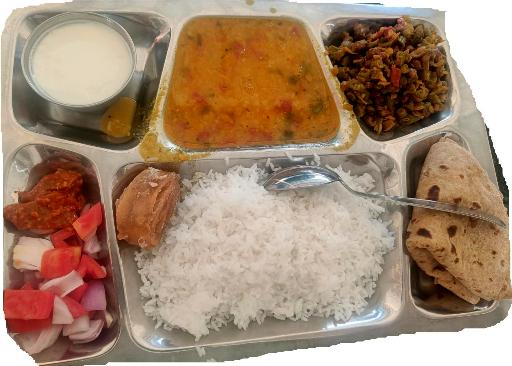Curd: (14, 13, 156, 110)
Dal: (166, 16, 334, 147)
Pickle: (5, 160, 80, 228)
Rice: (115, 156, 405, 341)
Roti: (413, 140, 512, 308)
Salad: (8, 235, 108, 359)
Sweet: (110, 163, 183, 245)
Vegetable: (340, 16, 454, 130)
